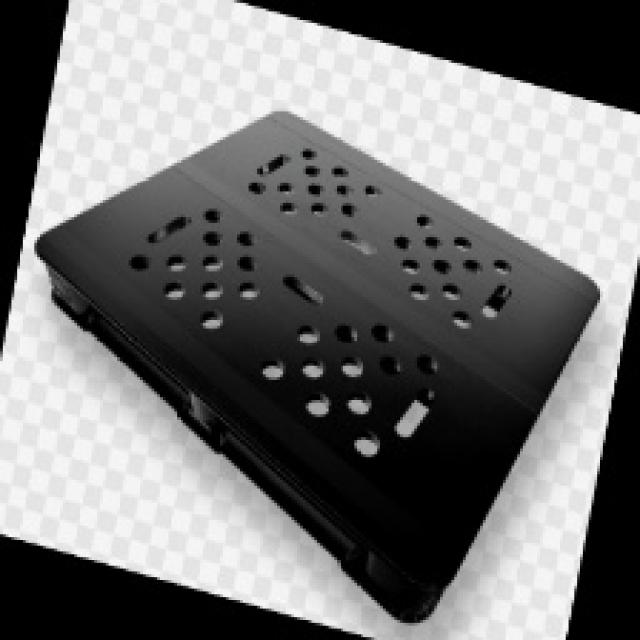igps: (31, 106, 604, 628)
